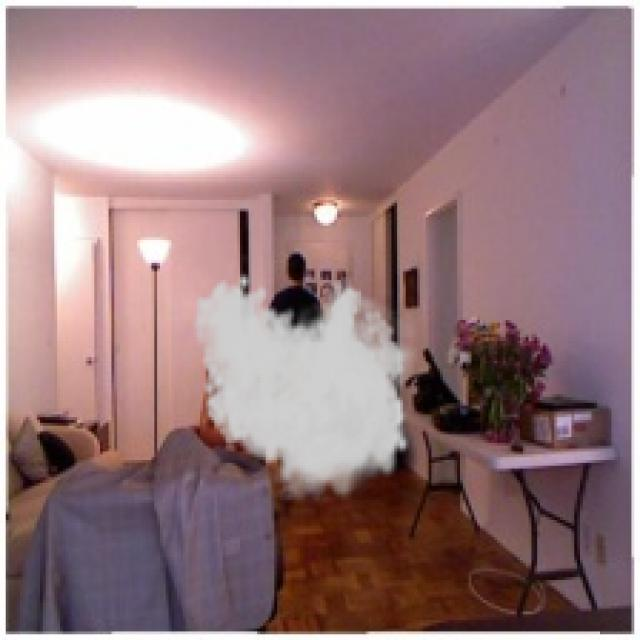smoke: (191, 272, 423, 508)
